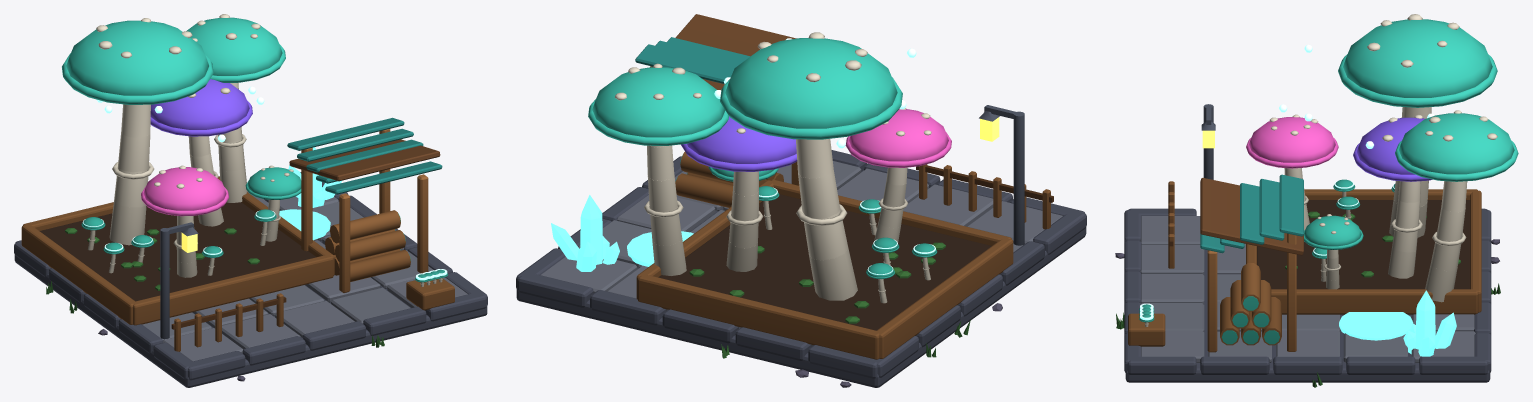
File: fungal_grove.glb
3 renders of one model, left to right at view 1: azimuth 30°, elevation 25°; view 2: azimuth 150°, elevation 25°; view 3: azimuth 270°, elevation 25°, orthographic. The views are drawn at different scales.
Visible parts, largest first — view 1: t0_wood, t0_stone_dark, t0_stone, t0_mushroom_teal, t0_earth, t0_mushroom_stem, t0_roof_teal, t2_mushroom_teal, t0_mushroom_violet, t0_mushroom_pink, t0_wood_dark, t2_mushroom_stem (+6 smaller); view 2: t0_stone_dark, t0_wood, t0_earth, t0_mushroom_teal, t0_mushroom_stem, t0_stone, t2_mushroom_teal, t0_mushroom_pink, t2_mushroom_stem, t0_mushroom_violet, t0_wood_dark, t3_crystal_teal (+3 smaller); view 3: t0_stone_dark, t0_stone, t0_wood, t0_mushroom_teal, t0_earth, t2_mushroom_teal, t0_mushroom_stem, t0_roof_teal, t3_crystal_teal, t0_mushroom_pink, t2_mushroom_stem, t0_wood_dark (+5 smaller).
Part boxes in pixels (box(x1,y1,x2,y2)): t0_wood: box(21, 129, 454, 351); t0_stone_dark: box(14, 172, 487, 387); t0_stone: box(142, 192, 467, 361); t0_mushroom_teal: box(62, 20, 448, 282); t0_earth: box(39, 202, 316, 301); t0_mushroom_stem: box(88, 18, 442, 286); t0_roof_teal: box(287, 117, 442, 194); t2_mushroom_teal: box(186, 17, 285, 82); t0_mushroom_violet: box(150, 79, 252, 136); t0_mushroom_pink: box(141, 167, 228, 216); t0_wood_dark: box(171, 139, 440, 329); t2_mushroom_stem: box(192, 14, 260, 202); t0_stone_dark: box(516, 150, 1086, 387); t0_wood: box(636, 66, 1050, 359); t0_earth: box(658, 194, 991, 330); t0_mushroom_teal: box(675, 38, 937, 279); t0_mushroom_stem: box(726, 32, 931, 303); t0_stone: box(541, 161, 1062, 346); t2_mushroom_teal: box(588, 67, 728, 145); t0_mushroom_pink: box(845, 109, 951, 167); t2_mushroom_stem: box(615, 63, 701, 275); t0_mushroom_violet: box(681, 116, 797, 171); t0_wood_dark: box(650, 14, 1053, 202); t3_crystal_teal: box(551, 195, 693, 271); t0_stone_dark: box(1124, 208, 1491, 382); t0_stone: box(1140, 216, 1475, 362); t0_wood: box(1128, 181, 1481, 352); t0_mushroom_teal: box(1139, 19, 1497, 344); t0_earth: box(1257, 200, 1470, 289); t2_mushroom_teal: box(1395, 113, 1518, 181); t0_mushroom_stem: box(1145, 14, 1459, 326); t0_roof_teal: box(1200, 174, 1303, 253); t3_crystal_teal: box(1339, 290, 1456, 356); t0_mushroom_pink: box(1246, 117, 1338, 168); t2_mushroom_stem: box(1425, 110, 1497, 302); t0_wood_dark: box(1169, 178, 1303, 255).
Bounding box in the file's own units: 3.1 × 2.21 × 3.25.
